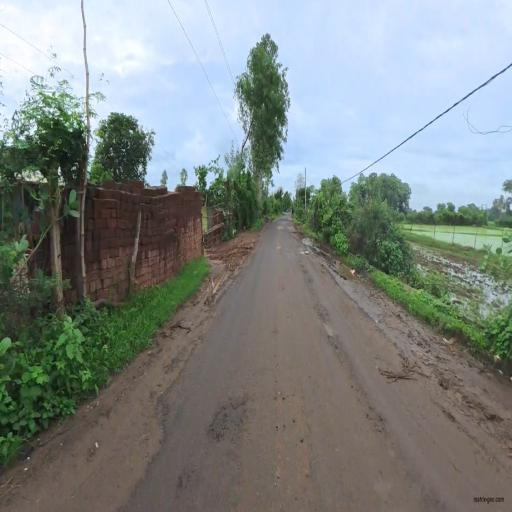edge_damage: (115, 365, 186, 512)
ravelling: (190, 333, 327, 499)
